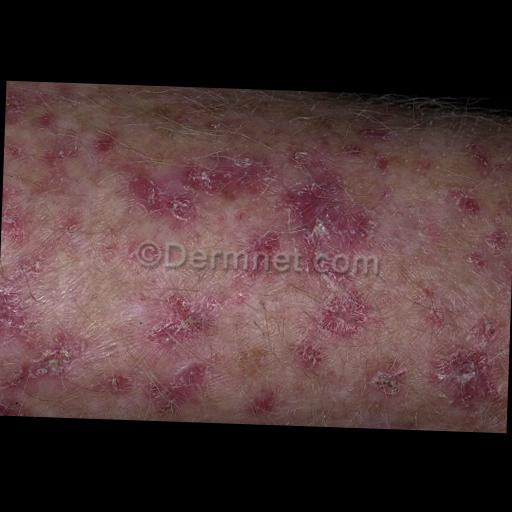Skin_Lesion: (282, 172, 376, 280), (127, 152, 198, 226), (432, 338, 500, 413), (183, 148, 271, 204), (142, 286, 215, 352), (140, 356, 200, 416), (316, 293, 372, 343), (244, 224, 284, 290), (364, 350, 408, 400), (0, 188, 28, 251), (0, 282, 24, 343), (462, 140, 496, 176), (10, 250, 44, 286), (446, 185, 484, 216), (4, 79, 28, 128), (250, 380, 282, 416), (296, 334, 325, 372), (100, 360, 128, 396), (482, 222, 512, 254), (424, 298, 452, 332), (92, 125, 120, 154), (42, 140, 75, 164), (359, 124, 394, 146), (59, 207, 85, 232), (0, 393, 29, 415), (368, 149, 392, 174), (3, 136, 26, 162), (464, 247, 490, 270), (52, 82, 79, 100)
